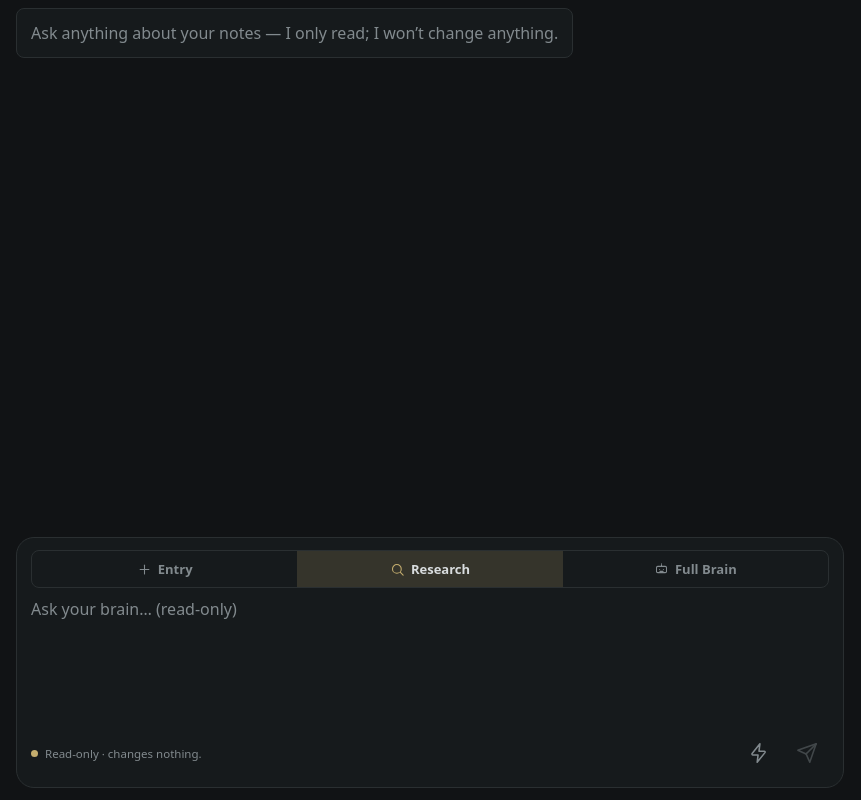
Test: Chat — Entry sub-selector & destinations › routes a Medical entry to the chosen destination under root=medical
Step 1. Click the button "Entry" → [165, 569], box [32,551,297,587]
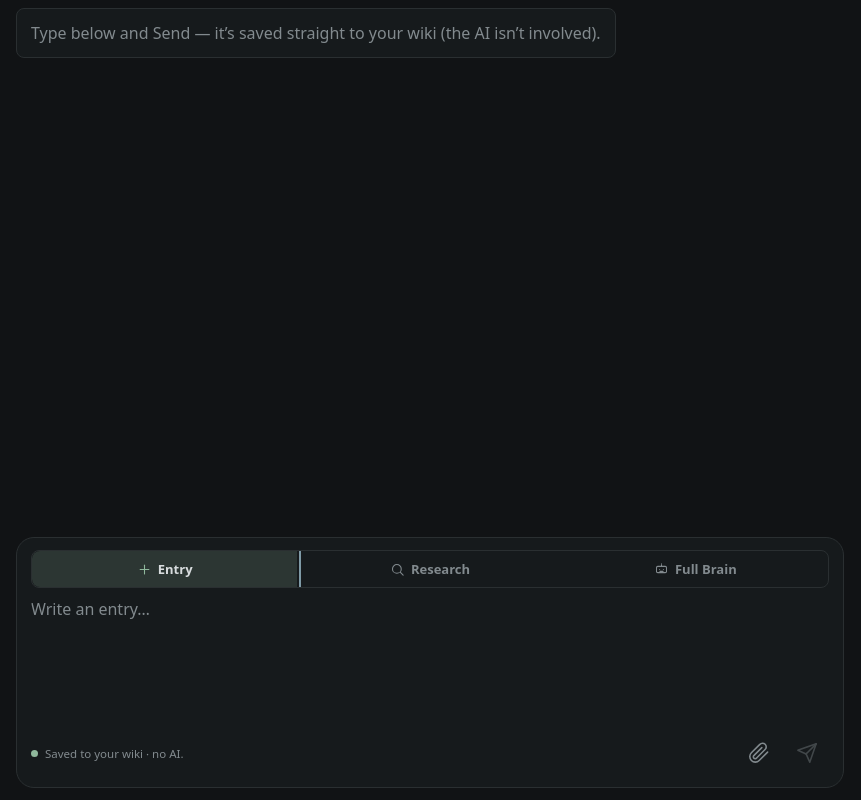
Step 2. Click the button "Entry" → [165, 569], box [32,551,297,587]
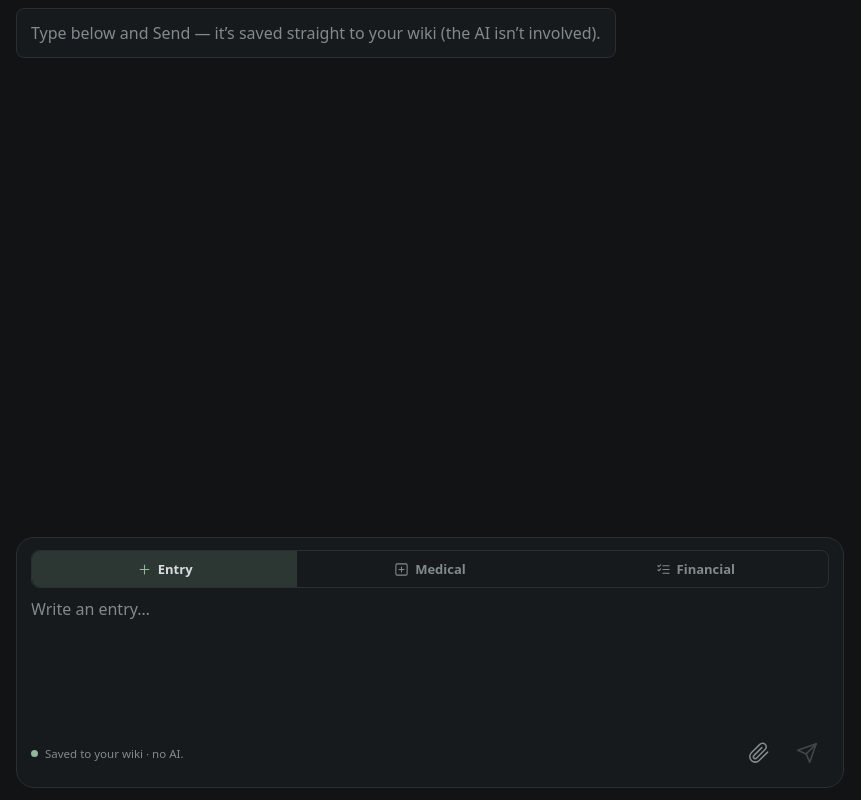
Step 3. Click the button "Medical" → [430, 569], box [297,551,563,587]
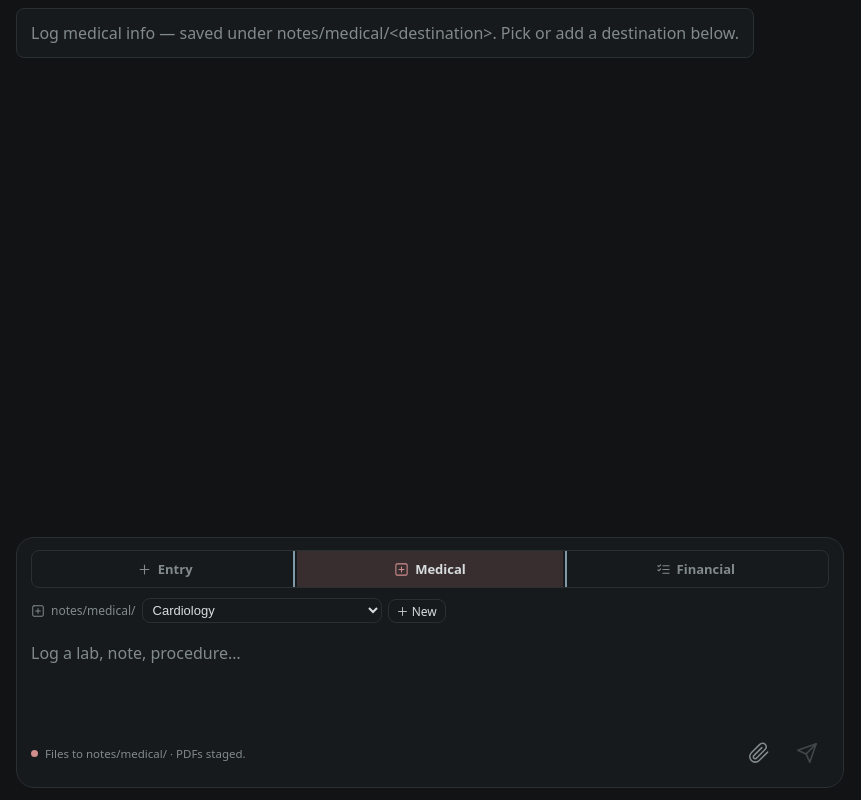
Step 4. Type "BP 120/80" into the text box with placeholder "Log a lab, note, procedure…" → [430, 680], box [31,642,829,718]
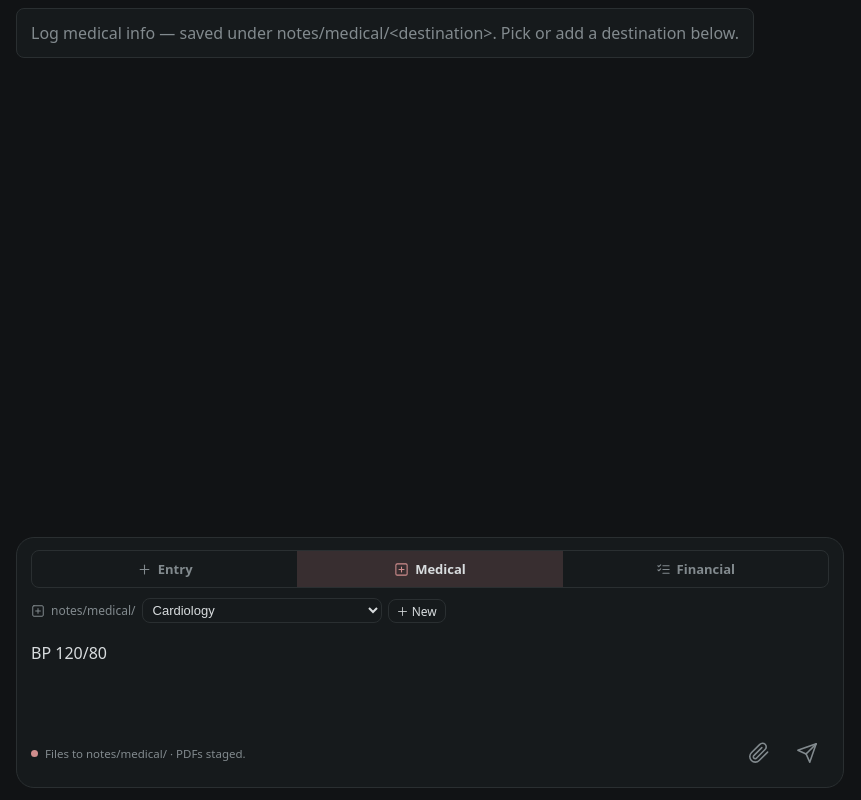
Step 5. Click the button named "Send" → [807, 753], box [785,731,829,775]
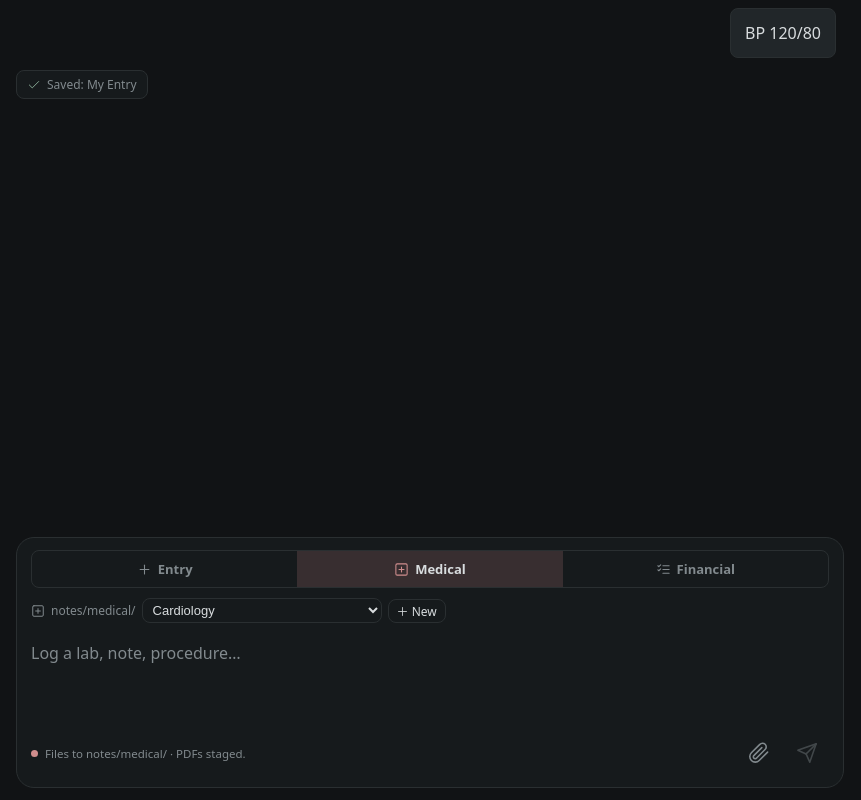
Now the text "BP 120/80" is shown, box [730,8,836,58]
